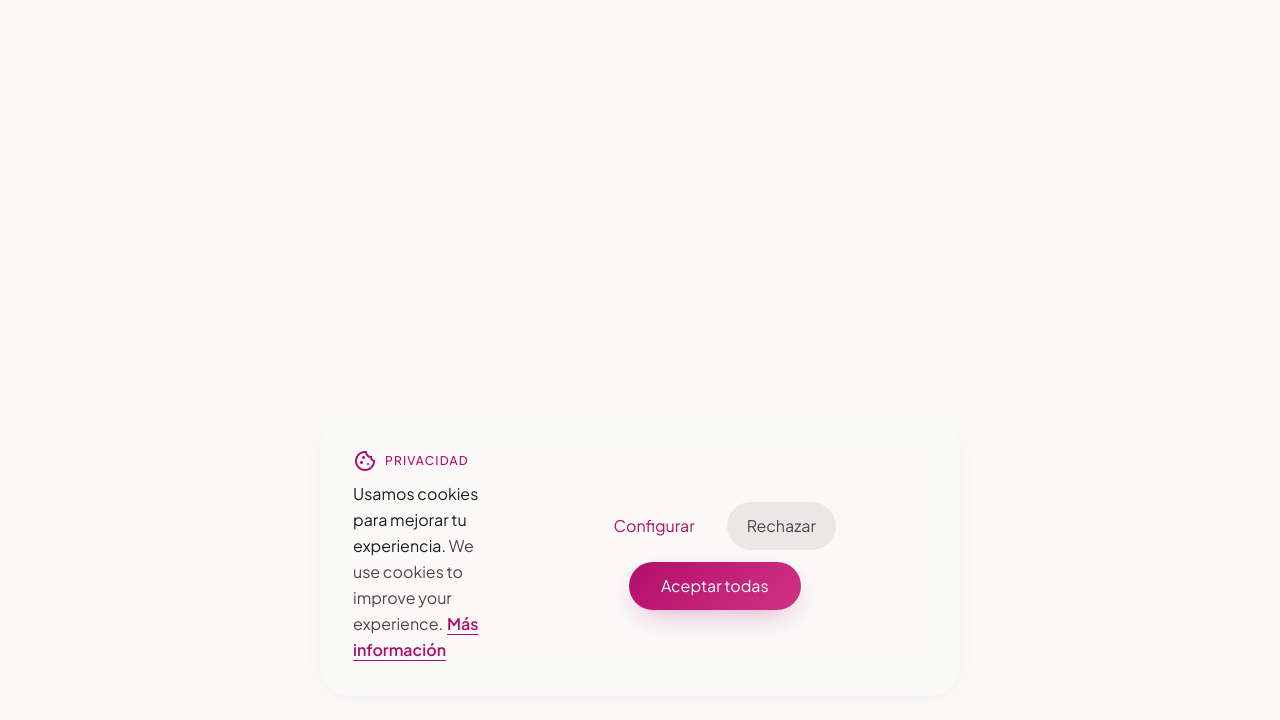
CookieBanner › opens configuration panel
Step 1. Click the button "Configurar" → (654, 526), box [594,502,715,550]
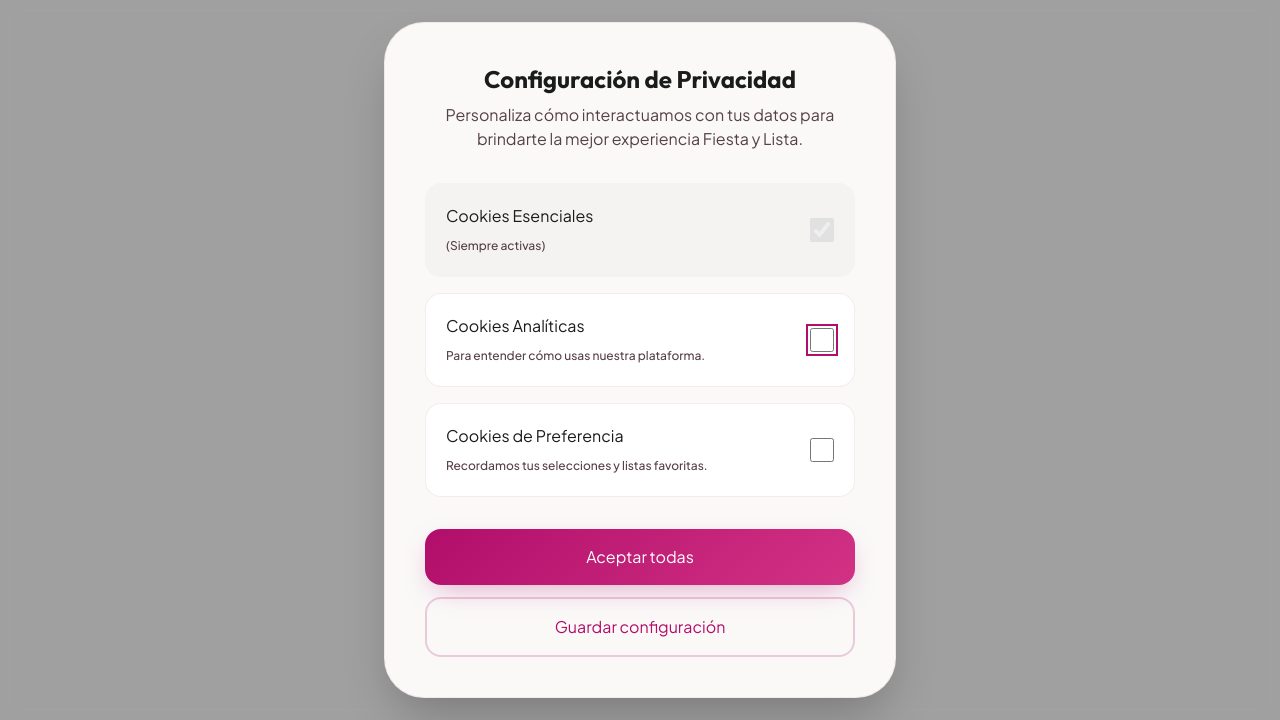
Check: the heading "Configuración de Privacidad" is shown, box [484,64,796,94]
Check: the button "Guardar configuración" is shown, box [425,597,855,657]
